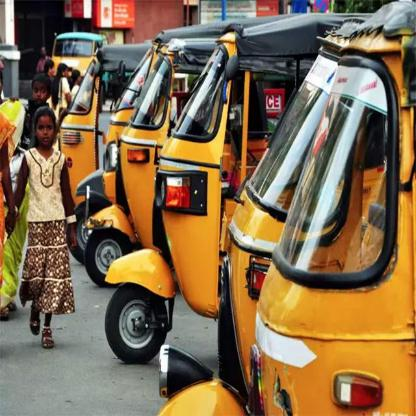auto-rikshaw: (110, 19, 310, 362), (248, 26, 416, 416), (156, 43, 336, 405), (96, 30, 176, 292), (56, 12, 140, 228)
